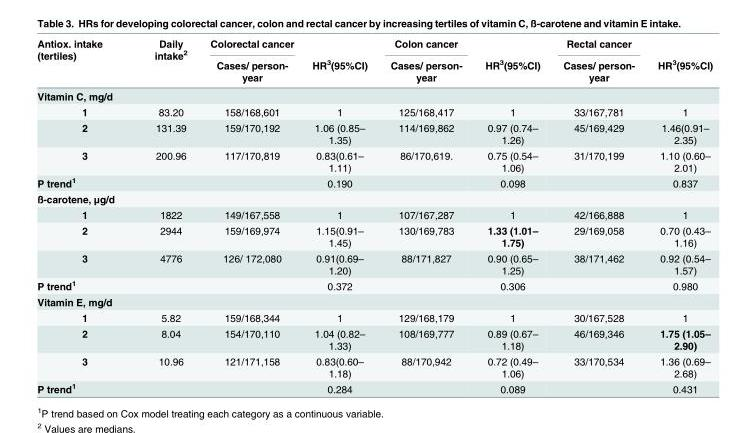table: (36, 37, 712, 394)
table column: (198, 37, 302, 394), (378, 37, 472, 394), (551, 37, 645, 394), (36, 37, 127, 394), (472, 37, 551, 394), (302, 37, 378, 394), (127, 37, 198, 394), (645, 37, 712, 394)
table column header: (36, 37, 712, 86)
table projected row header: (36, 86, 712, 103), (36, 190, 712, 206), (36, 293, 712, 309)
table row: (36, 53, 712, 86), (36, 119, 712, 147), (36, 249, 712, 277), (36, 352, 712, 380), (36, 147, 712, 174), (36, 222, 712, 249), (36, 325, 712, 352), (36, 86, 712, 103), (36, 37, 712, 53), (36, 103, 712, 119), (36, 174, 712, 190), (36, 190, 712, 206), (36, 206, 712, 222), (36, 277, 712, 293), (36, 293, 712, 309), (36, 309, 712, 325), (36, 380, 712, 394)
table spanning cell: (198, 37, 302, 86), (378, 37, 472, 86), (551, 37, 645, 86), (36, 37, 127, 86), (472, 37, 551, 86), (302, 37, 378, 86), (127, 37, 198, 86), (645, 37, 712, 86)
